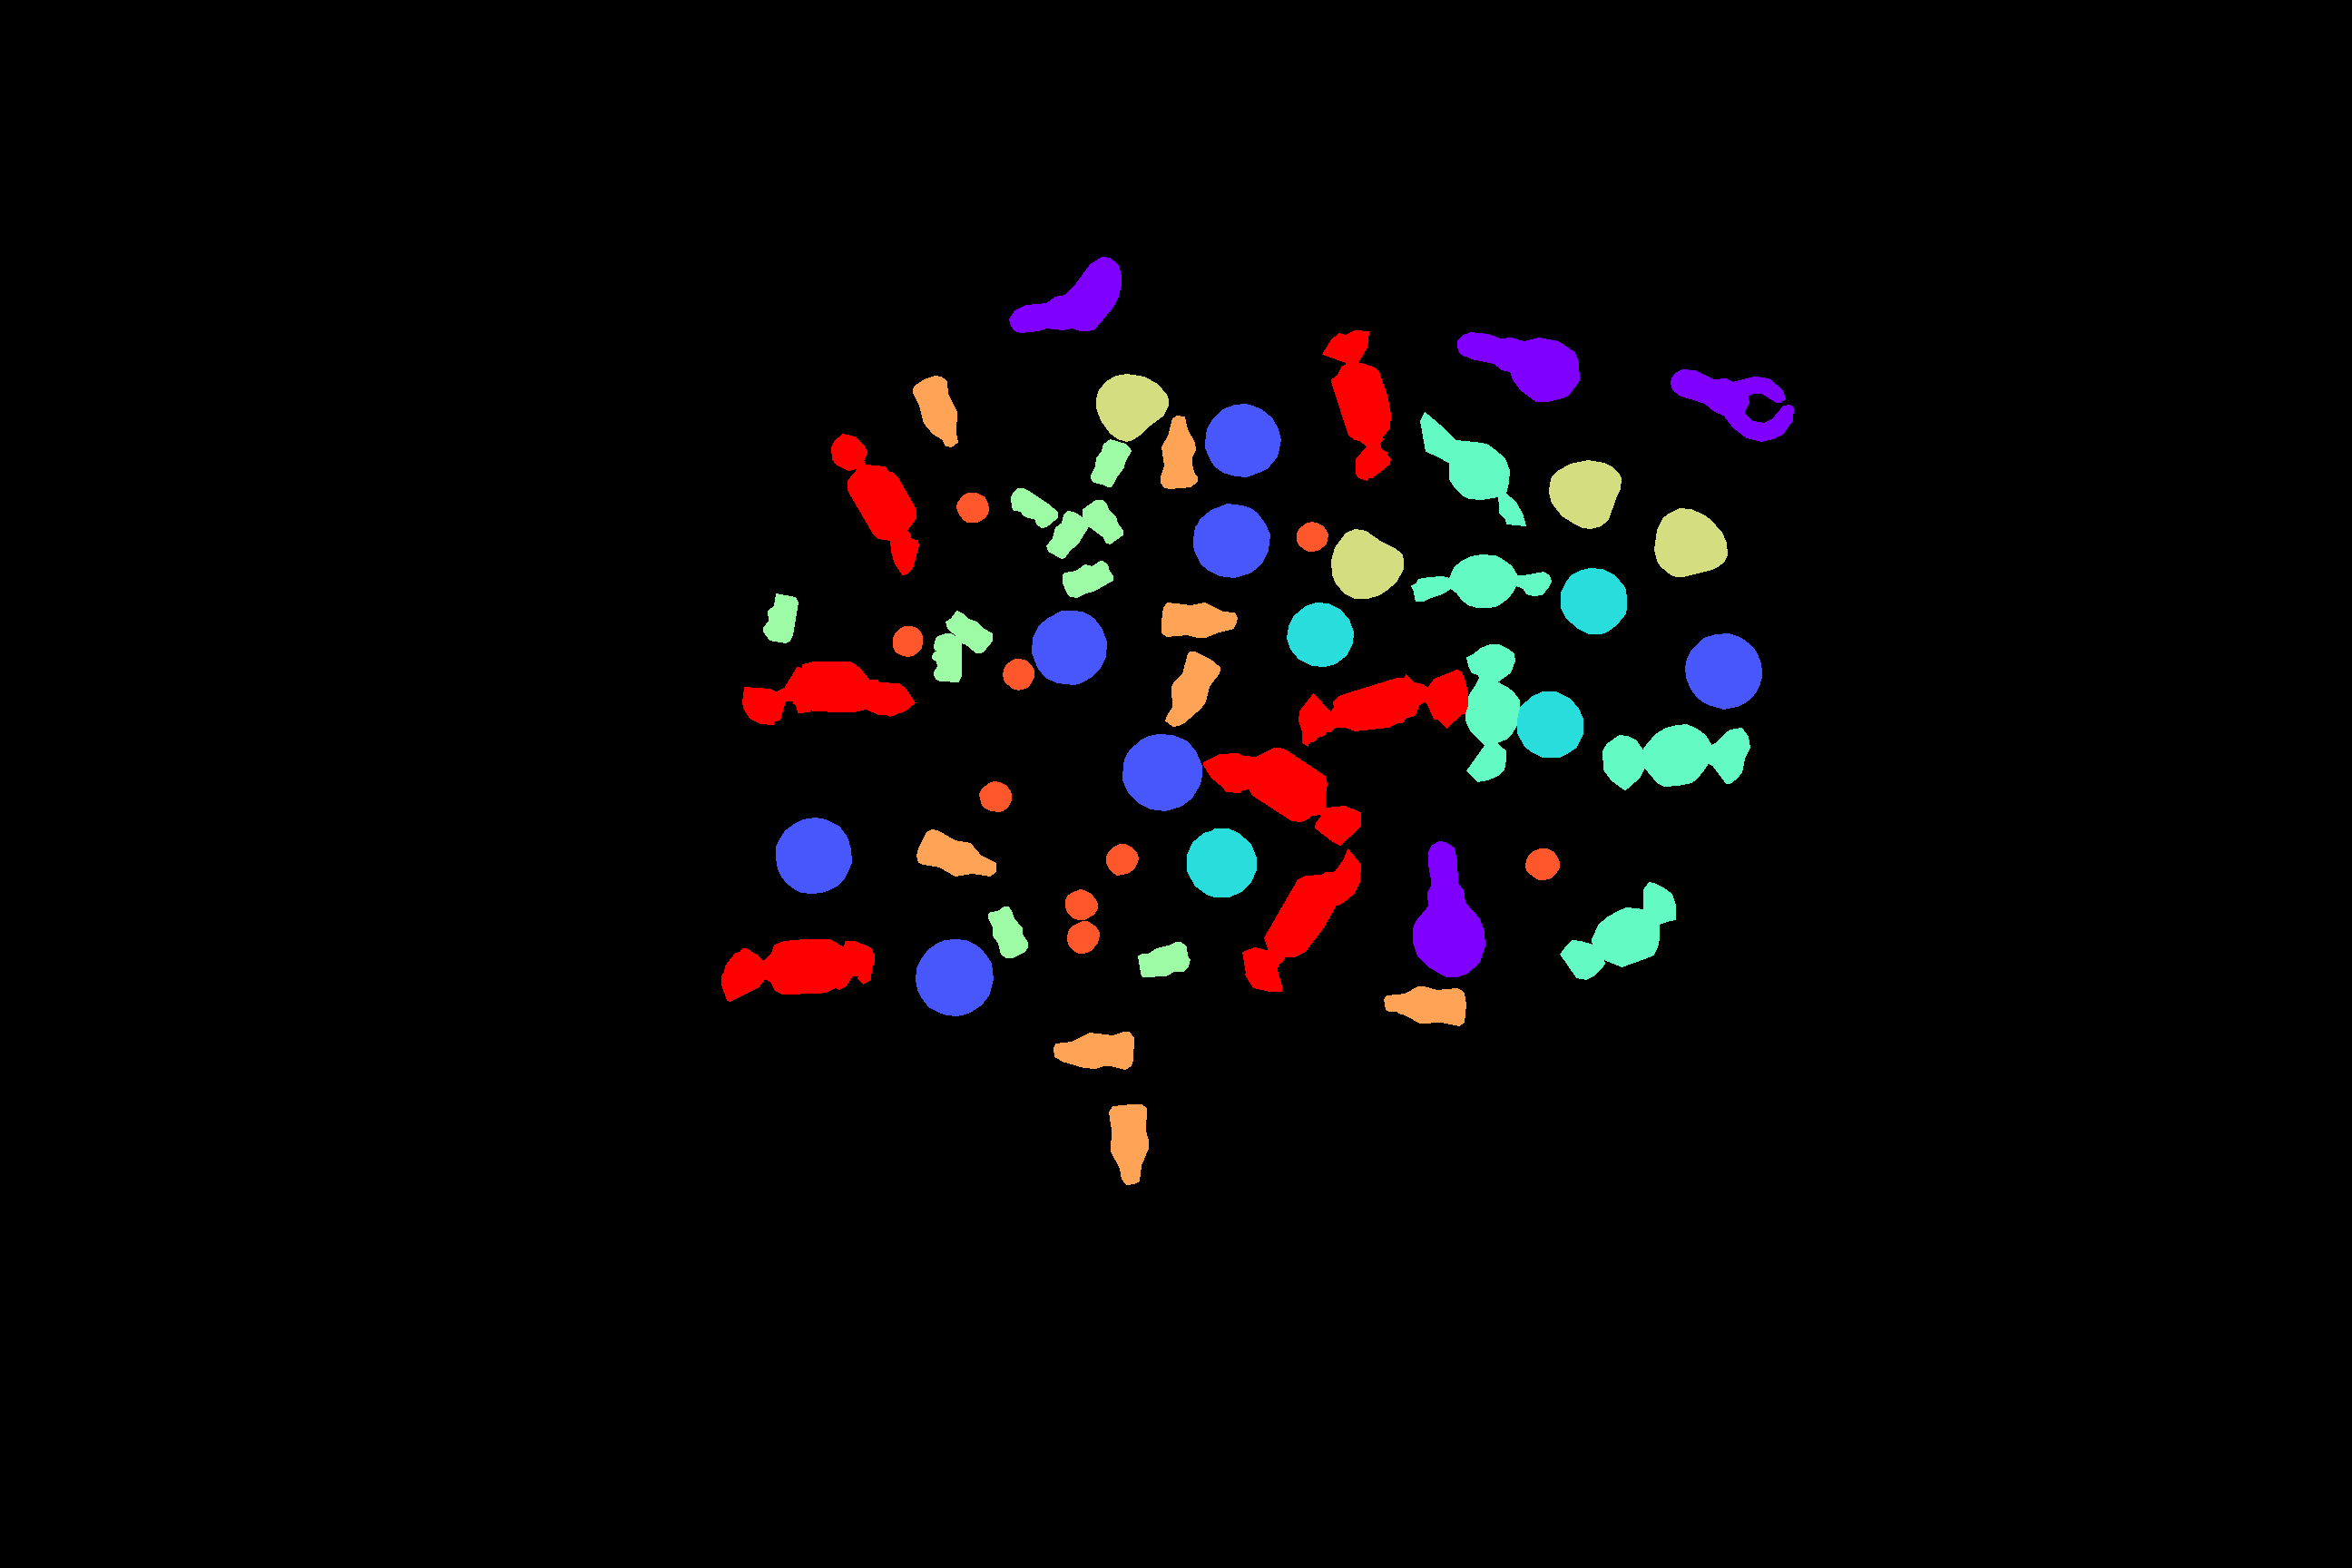apricot_jellies: (1090, 374, 1167, 486), (1332, 528, 1403, 598), (1654, 508, 1727, 576), (1549, 460, 1620, 528)
bear: (945, 611, 992, 653), (1046, 511, 1089, 558), (989, 906, 1027, 957), (1090, 439, 1130, 486), (1062, 560, 1113, 597), (1138, 942, 1190, 976), (1012, 488, 1057, 527), (763, 593, 798, 642), (1083, 500, 1122, 544), (933, 633, 961, 681)
coin_candy: (1122, 733, 1202, 810), (915, 940, 992, 1015), (1685, 633, 1760, 709), (775, 817, 851, 892), (1193, 504, 1269, 577), (1032, 611, 1106, 684), (1206, 404, 1281, 476)
cola bottle candies: (1166, 651, 1220, 726), (917, 829, 996, 875), (1109, 1104, 1148, 1185), (1384, 987, 1465, 1025), (914, 376, 957, 446), (1053, 1032, 1134, 1069), (1160, 415, 1197, 488), (1162, 602, 1237, 637)
dummies: (1412, 842, 1484, 976), (1671, 369, 1794, 441), (1010, 257, 1120, 332), (1458, 332, 1579, 401)
riesen: (1242, 849, 1360, 991), (1204, 747, 1360, 845), (1298, 670, 1466, 745), (831, 434, 919, 574), (742, 661, 915, 724), (1321, 331, 1389, 480), (721, 940, 873, 1001)
skittles: (978, 780, 1012, 812), (1003, 658, 1034, 689), (1106, 843, 1138, 875), (1068, 920, 1099, 952), (1526, 849, 1559, 878), (1066, 889, 1097, 919), (1297, 522, 1328, 551), (892, 626, 922, 656), (957, 494, 989, 522)
tofifee: (1187, 828, 1256, 896), (1286, 602, 1353, 667), (1561, 569, 1626, 633), (1517, 691, 1582, 756)
vollmilch_brocken: (1419, 411, 1526, 525), (1559, 882, 1675, 978), (1603, 724, 1750, 789), (1465, 644, 1519, 780), (1411, 555, 1551, 607)
